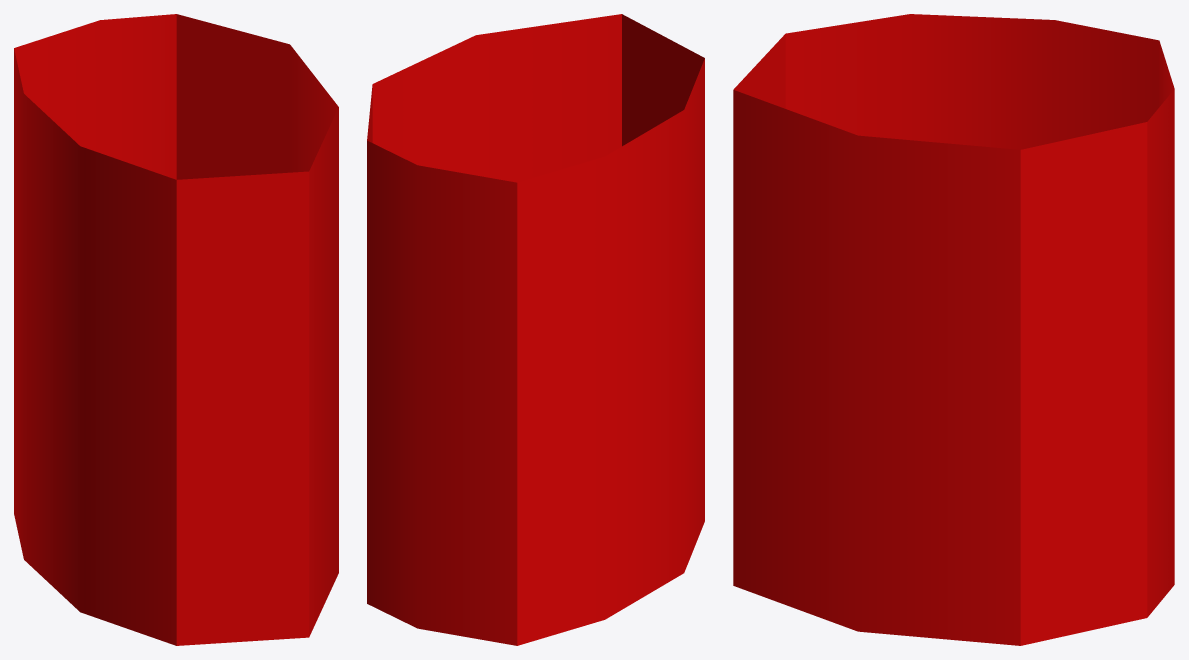
The model's file is original-101.obj.
3 renders of one model, left to right at view 1: azimuth 30°, elevation 25°; view 2: azimuth 150°, elevation 25°; view 3: azimuth 270°, elevation 25°, orthographic. The views are drawn at different scales.
Visible parts, largest first — view 1: #ID132; view 2: #ID132; view 3: #ID132.
Part boxes in pixels (x1=…): #ID132: x1=14, y1=14, x2=338, y2=645; #ID132: x1=367, y1=14, x2=704, y2=645; #ID132: x1=733, y1=14, x2=1174, y2=645.
Bounding box in the file's own units: 0.00103 × 0.00176 × 0.00142.
